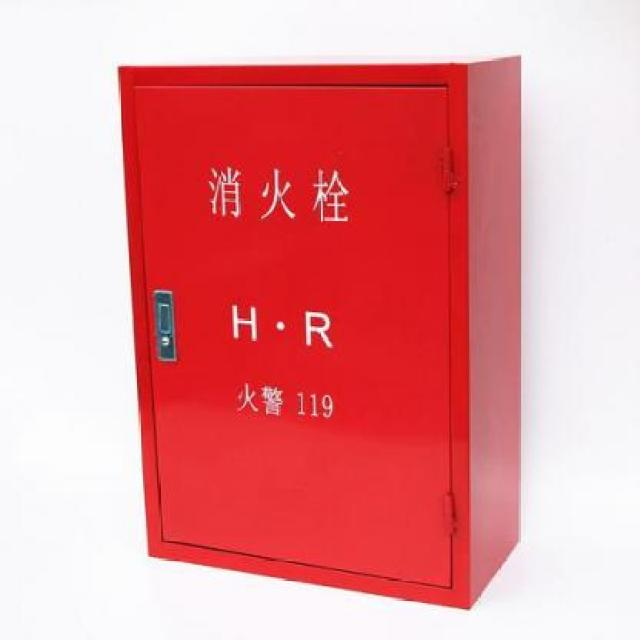firehydrant: (110, 49, 528, 614)
